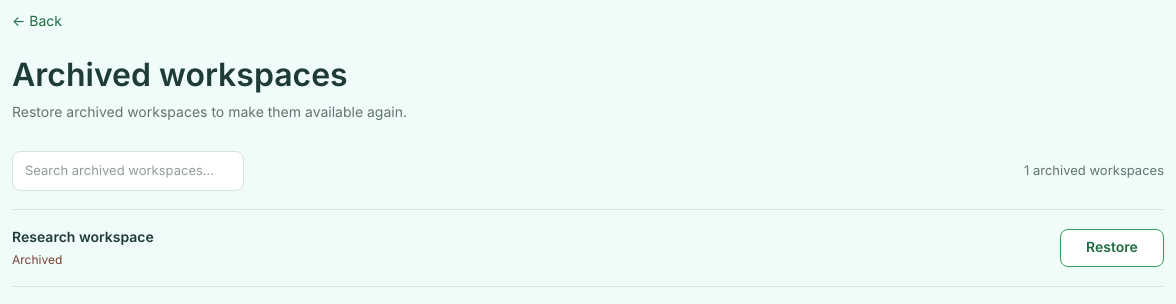
Scenario: keeps restored state truthful when resolution fails
The width and height of the screenshot is (1176, 304).
What coordinates should you click on to do the following:
click the button with aria-label "restore research"
I would click on:
 (1112, 248)
Its box is [1060,229,1164,267].
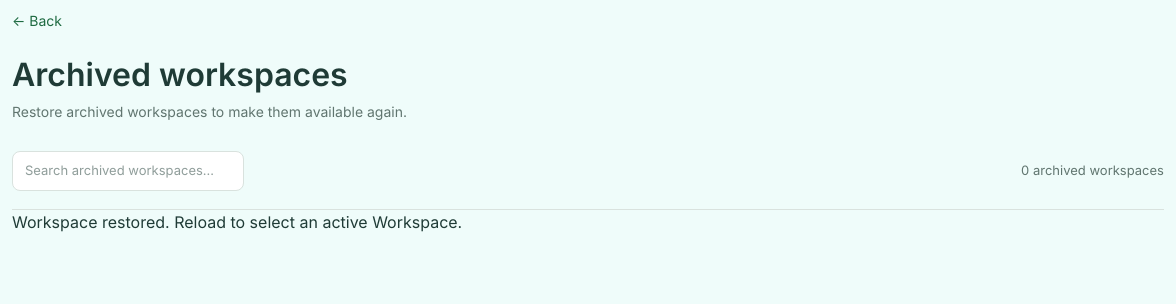
Check: the message reads "Workspace restored. Reload to select an active Workspace.", box [12,212,462,232]
